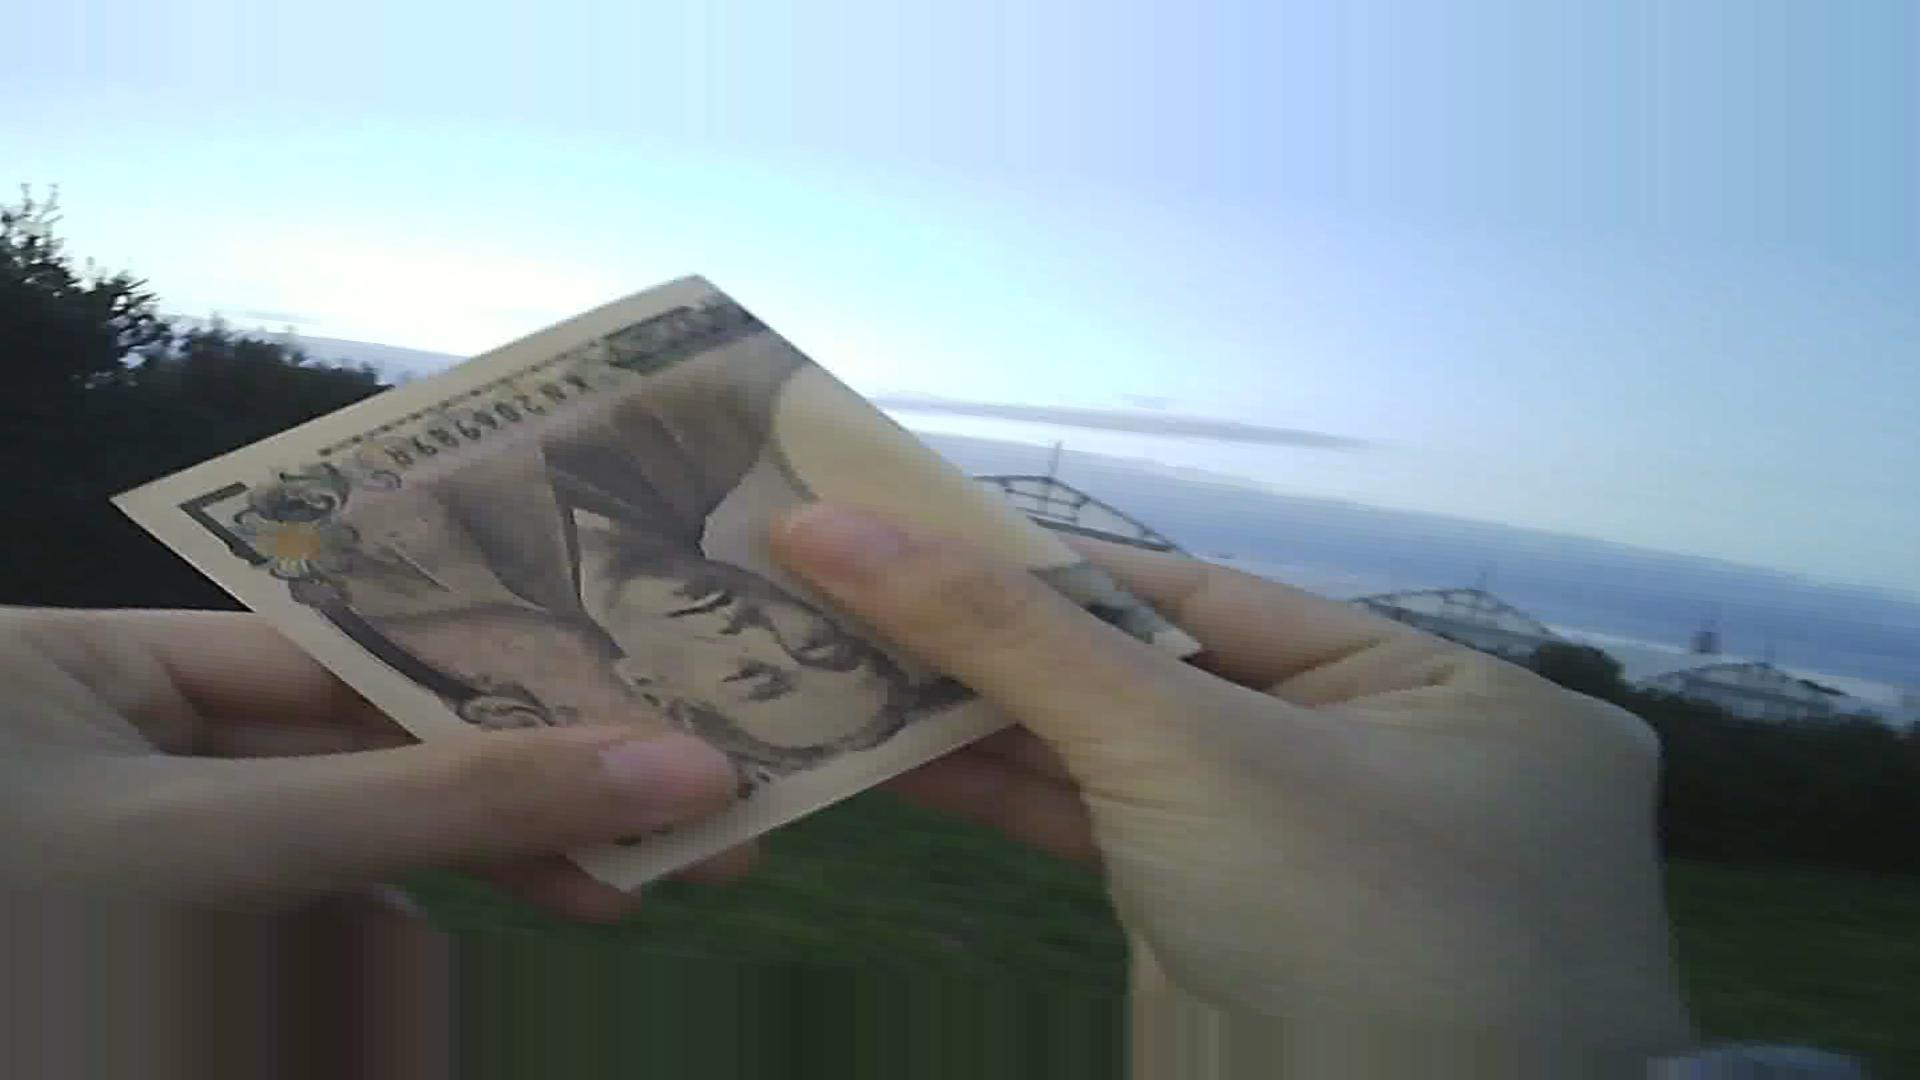10,000 Yen: (142, 270, 1197, 829)
